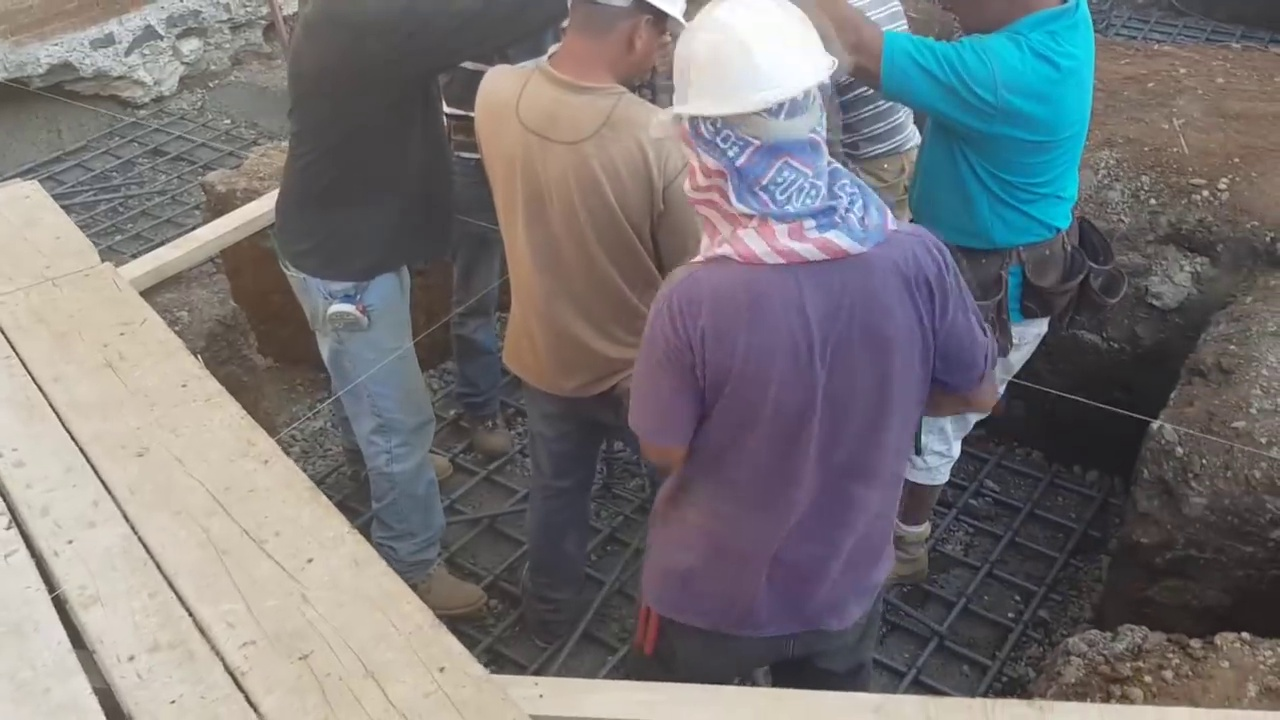helmet: (678, 5, 838, 131)
helmet-on: (666, 0, 842, 276)
person: (649, 16, 1039, 696), (264, 5, 500, 631), (484, 0, 704, 645), (863, 0, 1126, 477)
